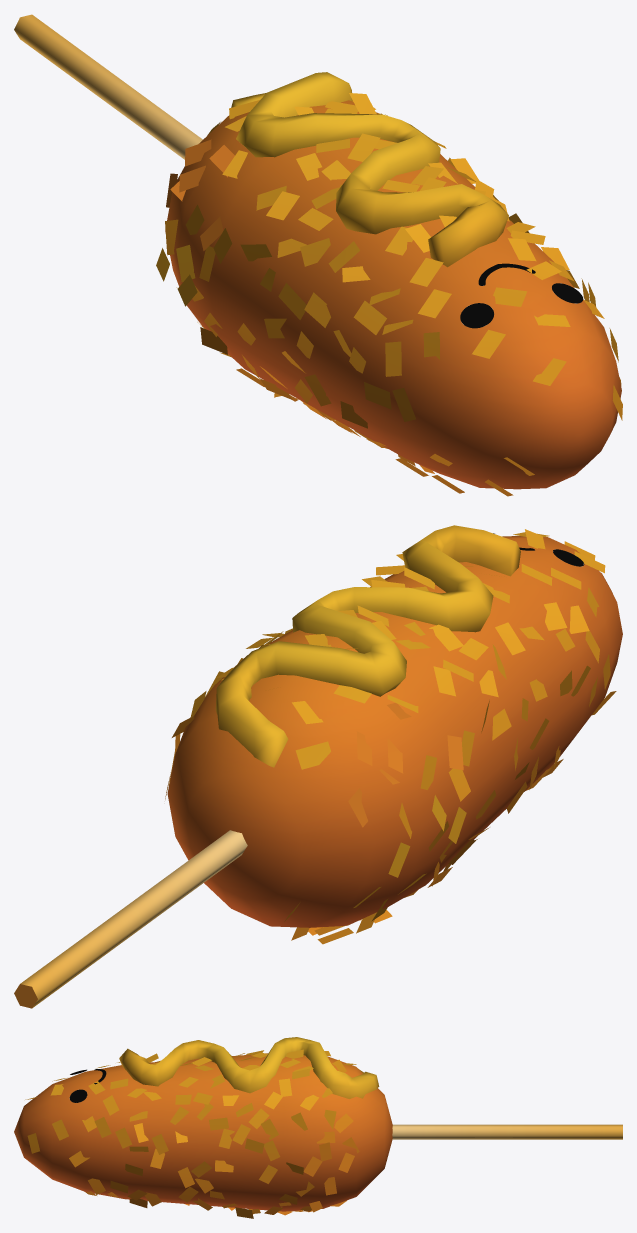
Rendered from corn_dog_yellow.fbx.
3 renders of one model, top to bottom at view 1: azimuth 30°, elevation 25°; view 2: azimuth 150°, elevation 25°; view 3: azimuth 270°, elevation 25°, orthographic. The views are drawn at different scales.
Parts seen in each view (by area): view 1: corn_dog_yellow; view 2: corn_dog_yellow; view 3: corn_dog_yellow.
Part boxes in pixels (x1=…): corn_dog_yellow: x1=14, y1=14, x2=622, y2=496; corn_dog_yellow: x1=14, y1=525, x2=622, y2=1008; corn_dog_yellow: x1=14, y1=1037, x2=622, y2=1218.
Bounding box in the file's own units: 41.86 × 150 × 43.63.
